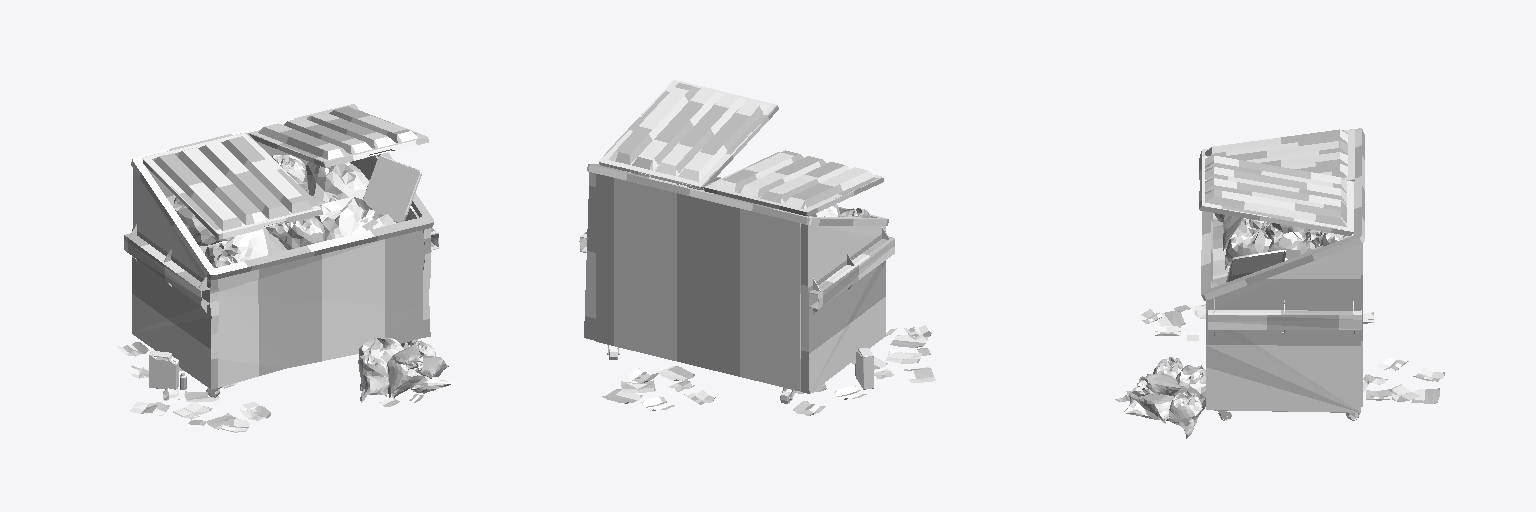
3 renders of one model, left to right at view 1: azimuth 30°, elevation 25°; view 2: azimuth 150°, elevation 25°; view 3: azimuth 270°, elevation 25°, orthographic.
Size of the model in its own units: 3.5 by 2.7 by 3.4.
Materials: 1 (1 with a texture image).